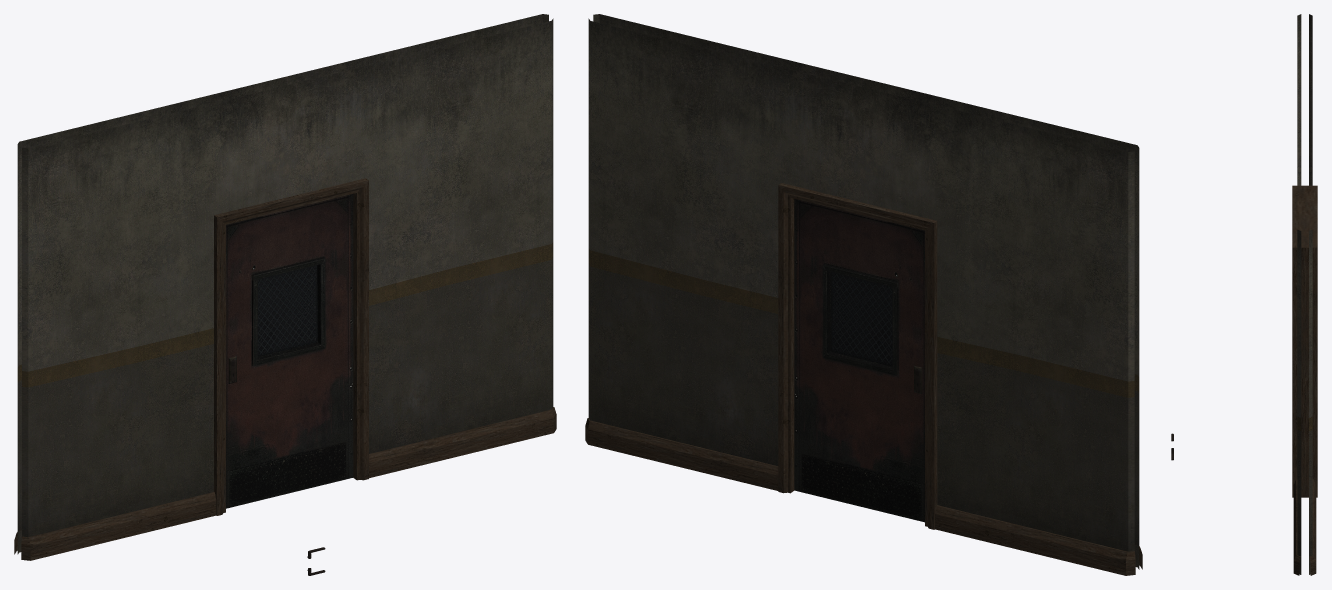
File: doorway_1.fbx
The picture shows the model from 3 angles, left to right: view 1: azimuth 30°, elevation 25°; view 2: azimuth 150°, elevation 25°; view 3: azimuth 270°, elevation 25°; orthographic projection. The views are drawn at different scales.
Parts seen in each view (by area): view 1: doorway_1, door_4; view 2: doorway_1, door_4; view 3: doorway_1.
Part boxes in pixels (<box>): doorway_1: <box>14,14,556,560</box>; door_4: <box>226,194,353,508</box>; doorway_1: <box>585,14,1142,575</box>; door_4: <box>794,199,924,522</box>; doorway_1: <box>1292,14,1317,575</box>.
Size of the model in its own units: 4.09 by 3.09 by 1.16.
